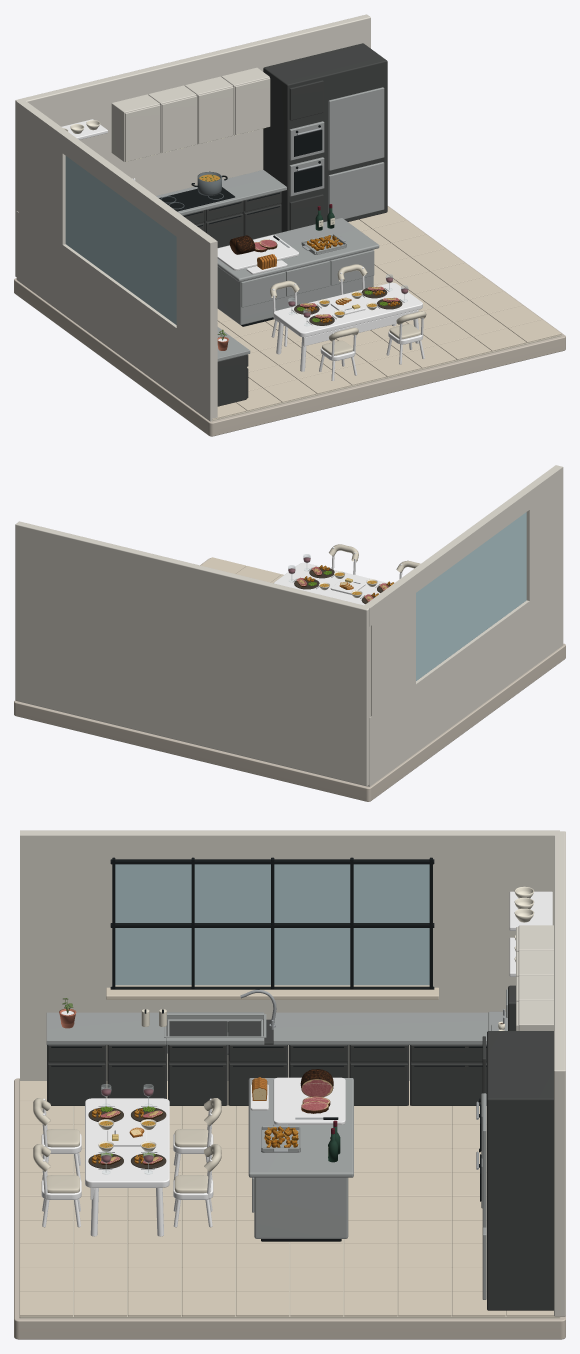
File: monochrome-social-kitchen.glb
The picture shows the model from 3 angles, top to bottom: view 1: azimuth 30°, elevation 25°; view 2: azimuth 150°, elevation 25°; view 3: azimuth 270°, elevation 25°; orthographic projection. The views are drawn at different scales.
Parts seen in each view (by area): view 1: Rear plaster wall export, Window wall segment export, Opaque blue daylight glazing export, Graphite appliance tower export, Square stone foundation export, Window wall segment.001 export, Window wall segment.003 export, Fridge separate door export, Window wall segment.002 export, Steel island body export, Steel island top export, Dining table rounded top export (+54 smaller); view 2: Rear plaster wall export, Window wall segment export, Opaque blue daylight glazing export, Square stone foundation export, Window wall segment.001 export, Window wall segment.003 export, Window wall segment.002 export, Dining table rounded top export; view 3: Opaque blue daylight glazing export, Graphite appliance tower export, Window wall segment.001 export, Square stone foundation export, Window wall segment.002 export, Window wall segment.003 export, Window wall segment export, Left counter section.001 export, Steel island body export, Rear plaster wall export, Steel island top export, Dining table rounded top export (+93 smaller).
Boxes of the visible parts, x1,y1,x2,y2 form: Rear plaster wall export: [15, 14, 370, 276]; Window wall segment export: [16, 211, 217, 421]; Opaque blue daylight glazing export: [65, 156, 176, 324]; Graphite appliance tower export: [263, 43, 387, 232]; Square stone foundation export: [14, 206, 565, 436]; Window wall segment.001 export: [16, 101, 217, 261]; Window wall segment.003 export: [18, 121, 65, 244]; Fridge separate door export: [328, 87, 384, 170]; Window wall segment.002 export: [176, 237, 217, 352]; Steel island body export: [217, 249, 373, 325]; Steel island top export: [217, 218, 379, 281]; Dining table rounded top export: [273, 282, 422, 337]; Rear plaster wall export: [15, 521, 370, 786]; Window wall segment export: [368, 577, 563, 786]; Opaque blue daylight glazing export: [416, 512, 526, 680]; Square stone foundation export: [14, 558, 565, 801]; Window wall segment.001 export: [363, 465, 563, 626]; Window wall segment.003 export: [371, 593, 415, 716]; Window wall segment.002 export: [526, 485, 563, 600]; Dining table rounded top export: [274, 562, 387, 605]; Opaque blue daylight glazing export: [115, 864, 429, 985]; Graphite appliance tower export: [487, 1031, 553, 1310]; Window wall segment.001 export: [20, 830, 559, 860]; Square stone foundation export: [14, 1078, 565, 1339]; Window wall segment.002 export: [20, 861, 112, 988]; Window wall segment.003 export: [433, 861, 553, 988]; Window wall segment export: [20, 988, 507, 1080]; Left counter section.001 export: [273, 1012, 488, 1044]; Steel island body export: [254, 1177, 348, 1238]; Rear plaster wall export: [554, 831, 565, 1316]; Steel island top export: [248, 1078, 353, 1177]; Dining table rounded top export: [85, 1098, 169, 1187].
Bounding box in the file's own units: 7.6 × 3.91 × 7.3.
